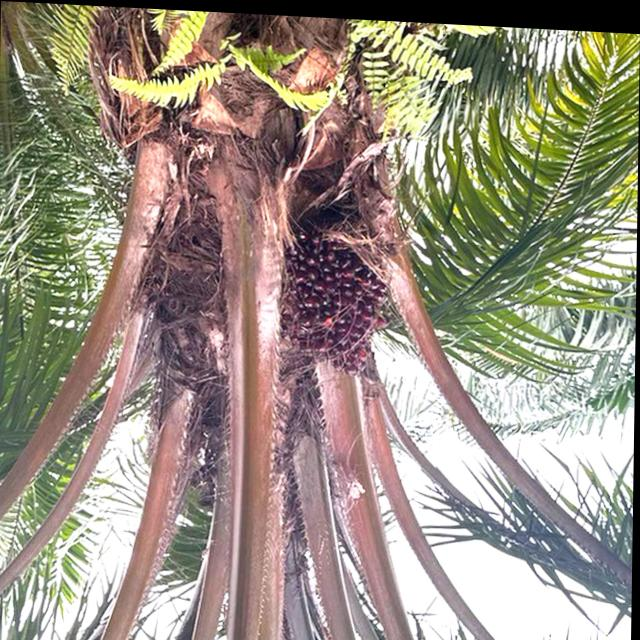ripe: (273, 222, 405, 393)
